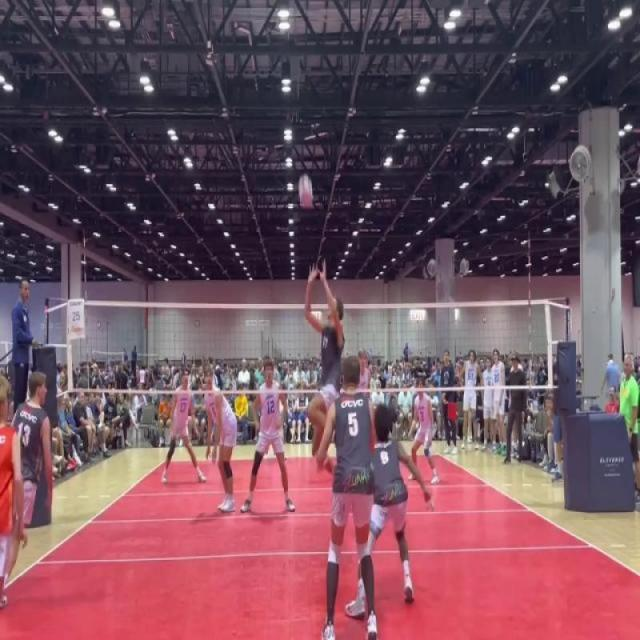volleyball: (296, 170, 316, 210)
